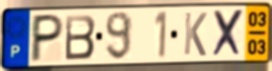1: (153, 10, 168, 61)
9: (104, 10, 135, 63)
B: (64, 13, 98, 62)
K: (182, 10, 209, 58)
P: (28, 13, 66, 65)
X: (211, 8, 246, 59)
